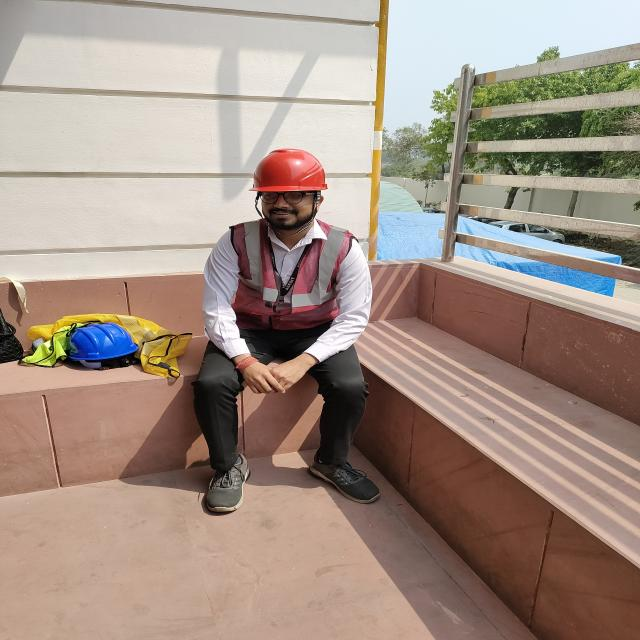safe: (197, 148, 376, 516)
